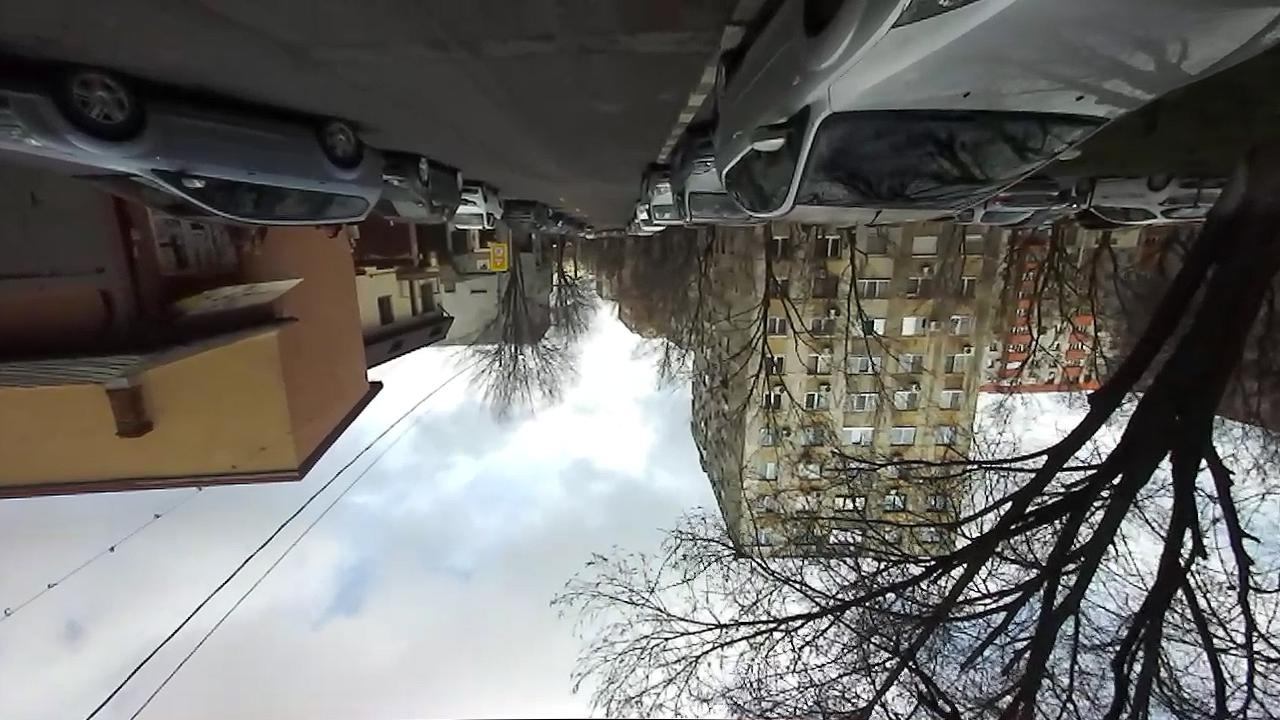pothole: (520, 26, 621, 56)
